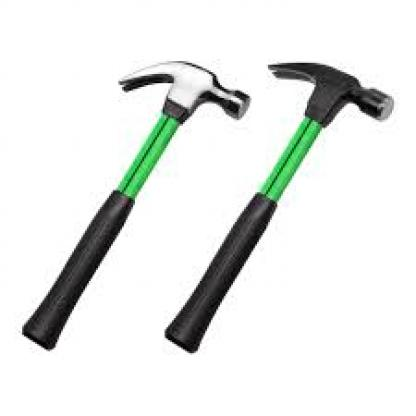Hammer: (21, 60, 253, 354), (164, 61, 394, 356)
